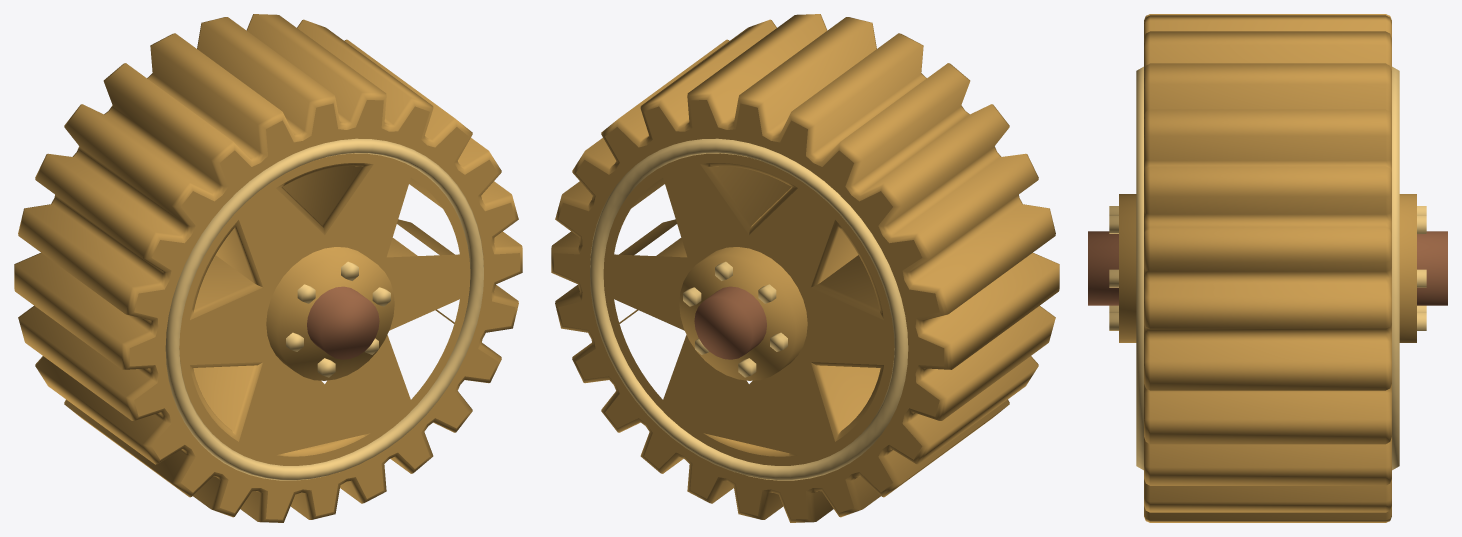
The model's file is gear-24.glb.
The picture shows the model from 3 angles, left to right: view 1: azimuth 30°, elevation 25°; view 2: azimuth 150°, elevation 25°; view 3: azimuth 270°, elevation 25°; orthographic projection. The views are drawn at different scales.
Parts seen in each view (by area): view 1: gear; view 2: gear; view 3: gear.
Part boxes in pixels (x1,y1,x2,y2): gear: [14, 14, 522, 522]; gear: [551, 14, 1059, 522]; gear: [1088, 14, 1447, 522].
Bounding box in the file's own units: 2.05 × 2.05 × 1.45.
